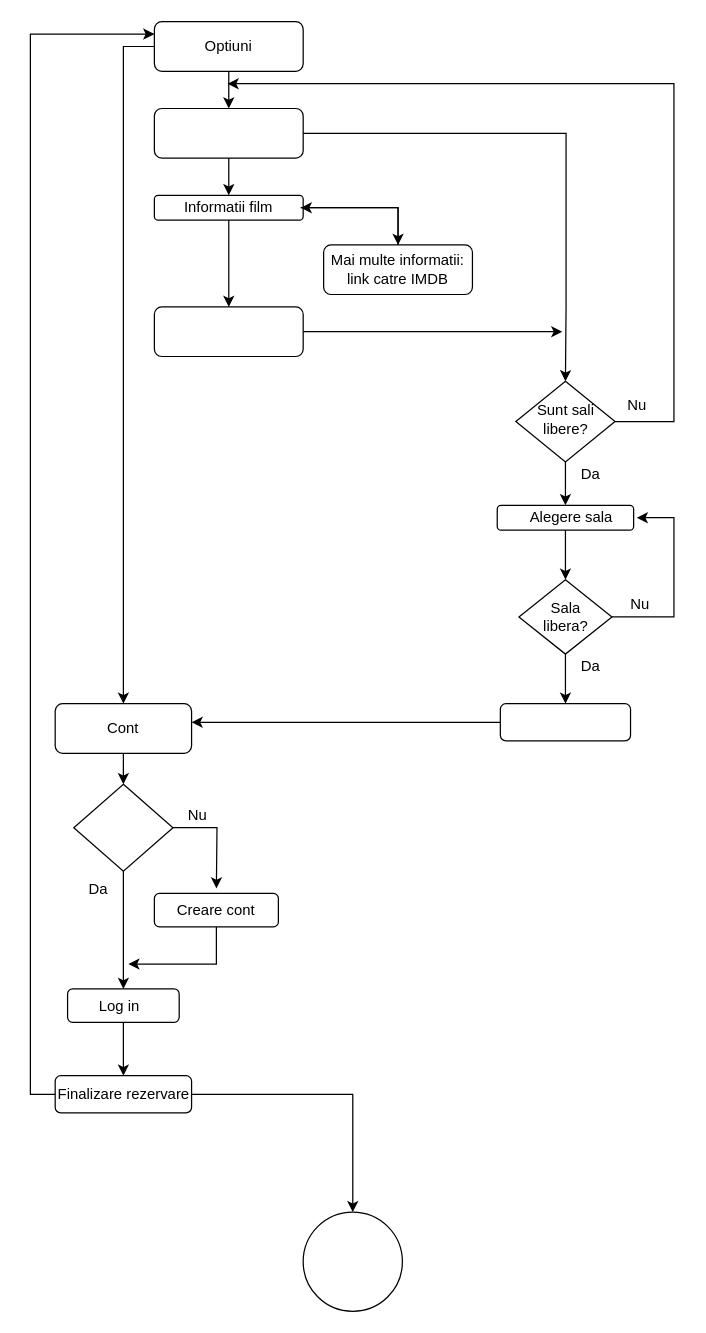
Image size: 706x1333. Some labels were removed from this diagram. The centre of each missing label's shape, as x and y in pixels:
Alegere film: [228,132]
Cont existent?: [123,827]
Iesire: [352,1261]
Rezervare bilete: [565,721]
Trailer, titlu, descriere: [228,331]
